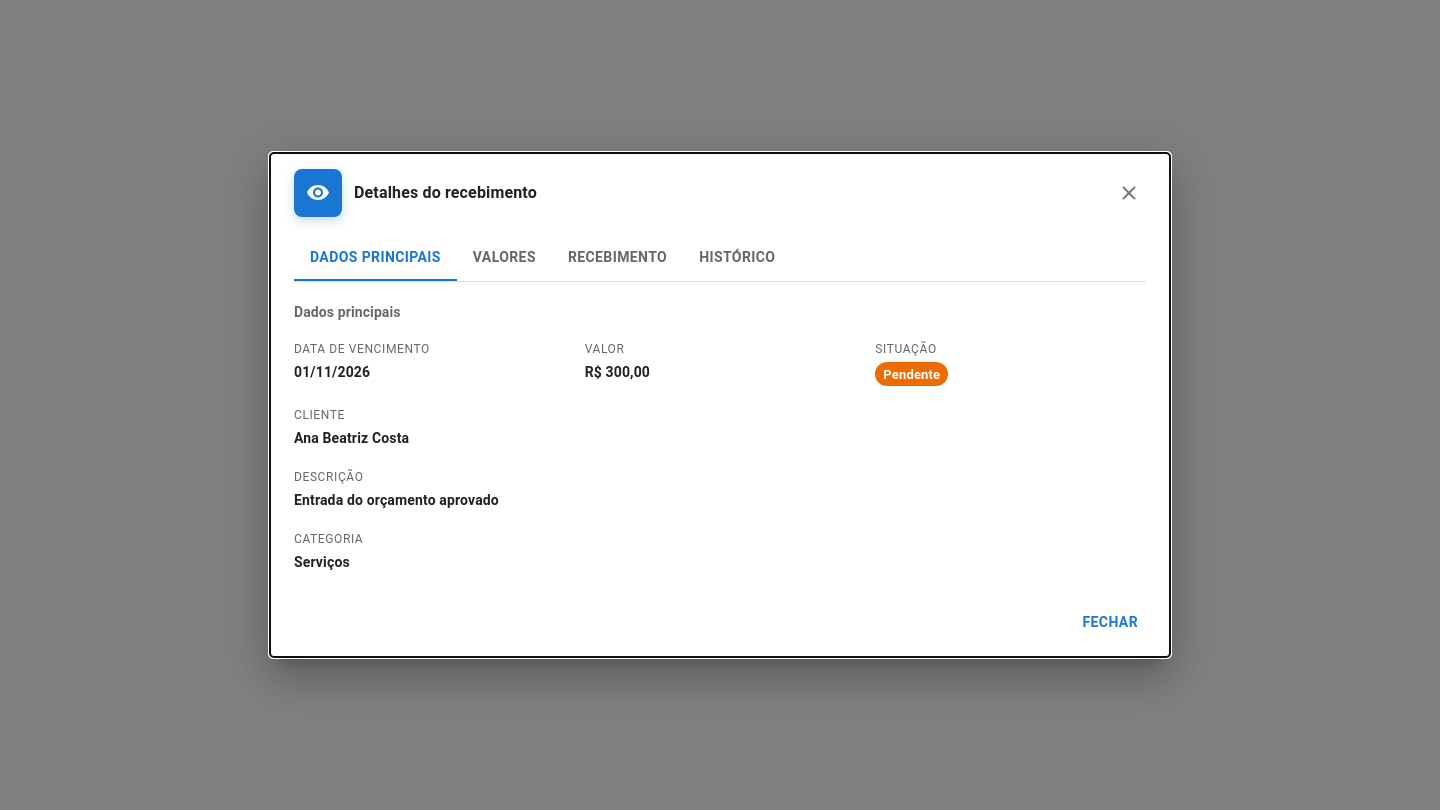
Test case: DetalhesDialog › título pendente mostra o método como previsto, não como recebimento
Click the tab "Recebimento".
click(618, 257)  # box x1=552 y1=233 x2=683 y2=281
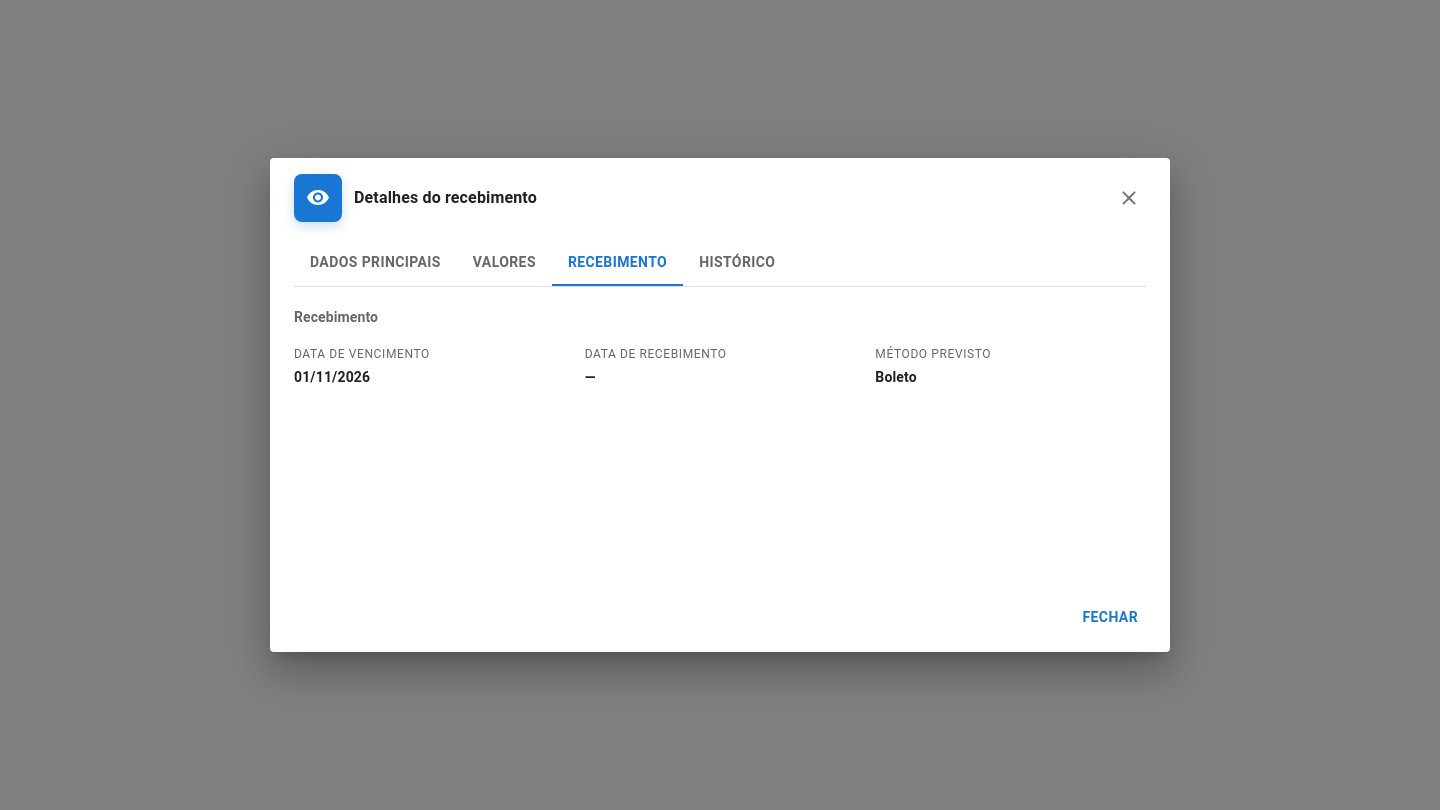
Result: the text "Método previsto" is shown at x1=875 y1=347 x2=991 y2=361
Result: the text "Boleto" is shown at x1=875 y1=369 x2=917 y2=385
